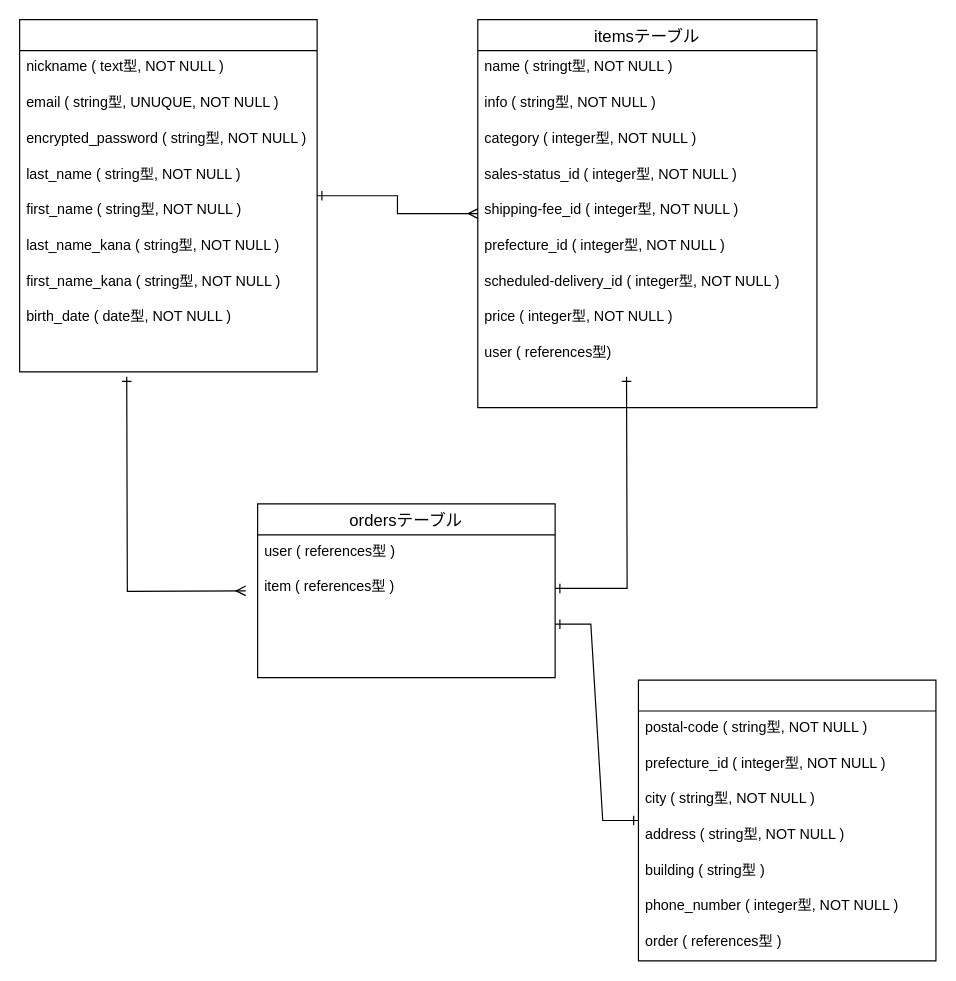
Image size: 956x981. Some labels were removed from this diagram. Here are the shapes that lost their labels. From the top down, the box of each, then its label:
(18, 18, 317, 372): usersテーブル
(637, 679, 936, 961): buyersテーブル
